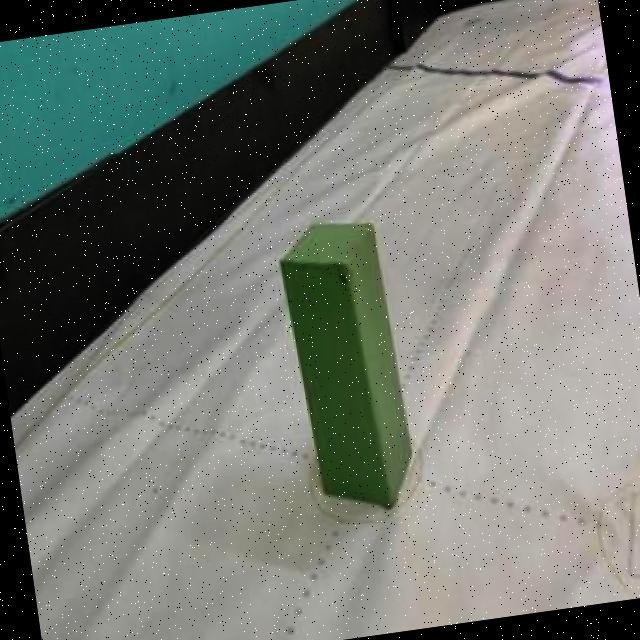greenbox: (269, 212, 422, 526)
